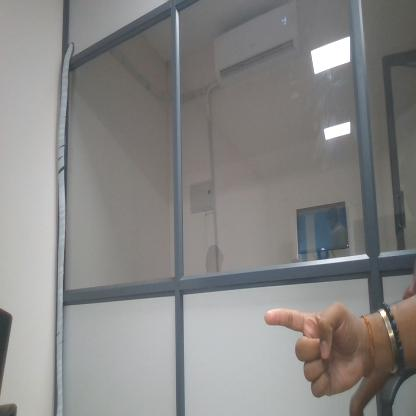Right: (256, 286, 366, 404)
